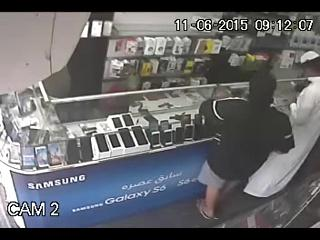Normal: (196, 65, 302, 222)
